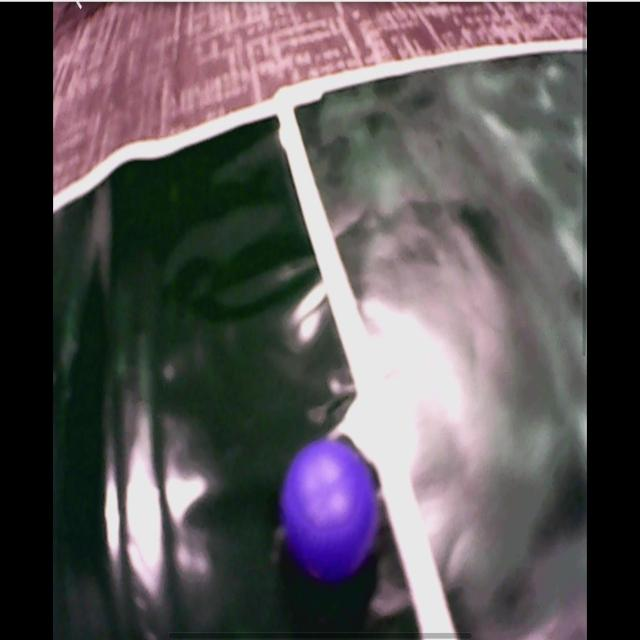ball: (282, 443, 381, 578)
